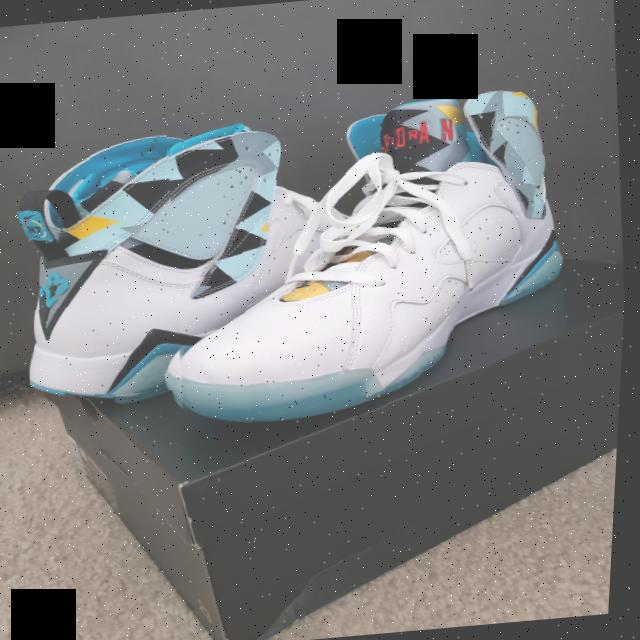shoe: (154, 88, 584, 432), (12, 116, 347, 403)
